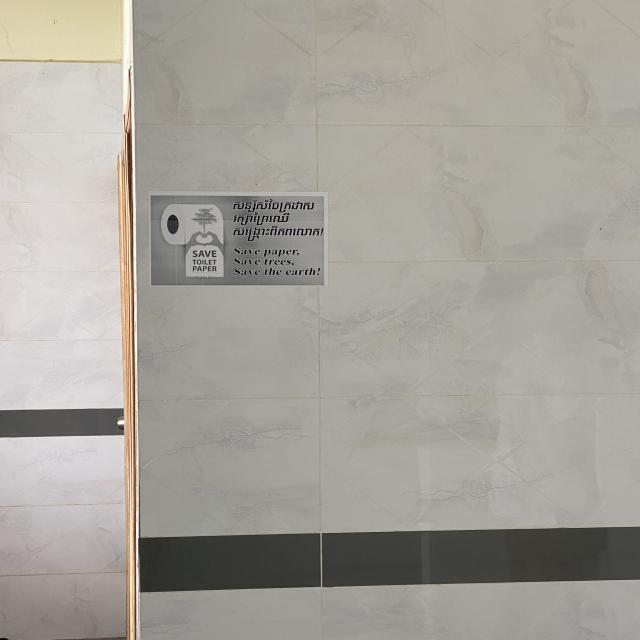Yolov11kh: (228, 225, 325, 243), (228, 198, 319, 213), (228, 211, 297, 225)
